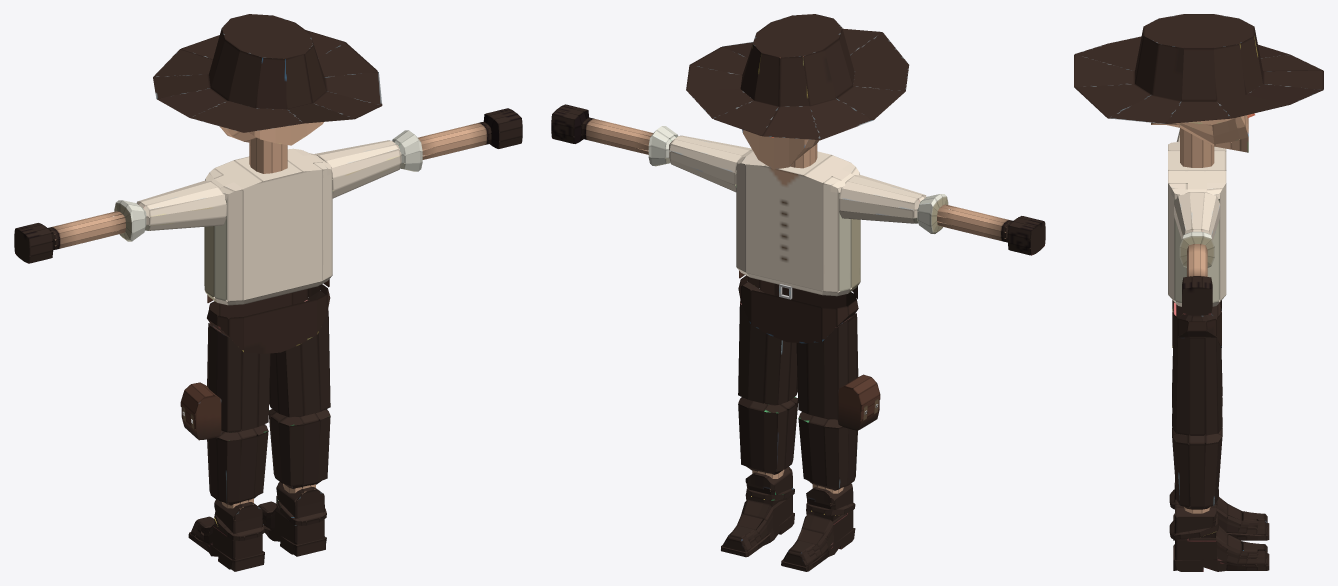
File: PlayerVisual.obj
3 views of the same model, side by side, from view 1: azimuth 30°, elevation 25°; view 2: azimuth 150°, elevation 25°; view 3: azimuth 270°, elevation 25° (orthographic). The views are drawn at different scales.
Visible parts, largest first — view 1: chapeu, tronco, perna cima, perna baixo, antebraço, bota, cintura, pulso, mão, mala, ped roupa, sola (+2 smaller); view 2: chapeu, tronco, perna cima, perna baixo, bota, antebraço, cintura, pulso, mão, mala, cabeça, ped roupa (+1 smaller); view 3: chapeu, perna cima, bota, tronco, perna baixo, antebraço, cabeça, sola, mão, pescoço, cintura, pulso (+1 smaller).
Part boxes in pixels (x1,y1,x2,y2): chapeu: (153,14,382,132); tronco: (204,148,332,305); perna cima: (207,300,330,432); perna baixo: (207,409,330,505); antebraço: (136,140,401,230); bota: (191,482,326,562); cintura: (207,284,330,353); pulso: (48,122,491,509); mão: (14,108,522,263); mala: (180,382,221,440); ped roupa: (114,130,422,241); sola: (188,525,326,571); chapeu: (686,14,909,140); tronco: (736,149,860,296); perna cima: (738,291,858,419); perna baixo: (738,397,857,490); bota: (723,467,855,567); antebraço: (669,135,926,223); cintura: (738,275,858,343); pulso: (581,117,1012,503); mão: (551,104,1045,255); mala: (837,374,880,430); cabeça: (742,56,819,169); ped roupa: (648,126,948,233); chapeu: (1074,14,1323,123); perna cima: (1172,302,1222,435); bota: (1169,479,1267,567); tronco: (1168,142,1226,306); perna baixo: (1172,397,1222,509); antebraço: (1174,129,1220,240); cabeça: (1151,115,1248,152); sola: (1173,514,1269,571); mão: (1182,276,1212,315); pescoço: (1180,128,1214,167); cintura: (1172,300,1221,347); pulso: (1184,244,1210,513).
Size of the model in its own units: 2.09 by 2.08 by 0.9112.
1 material, 1 textured.
